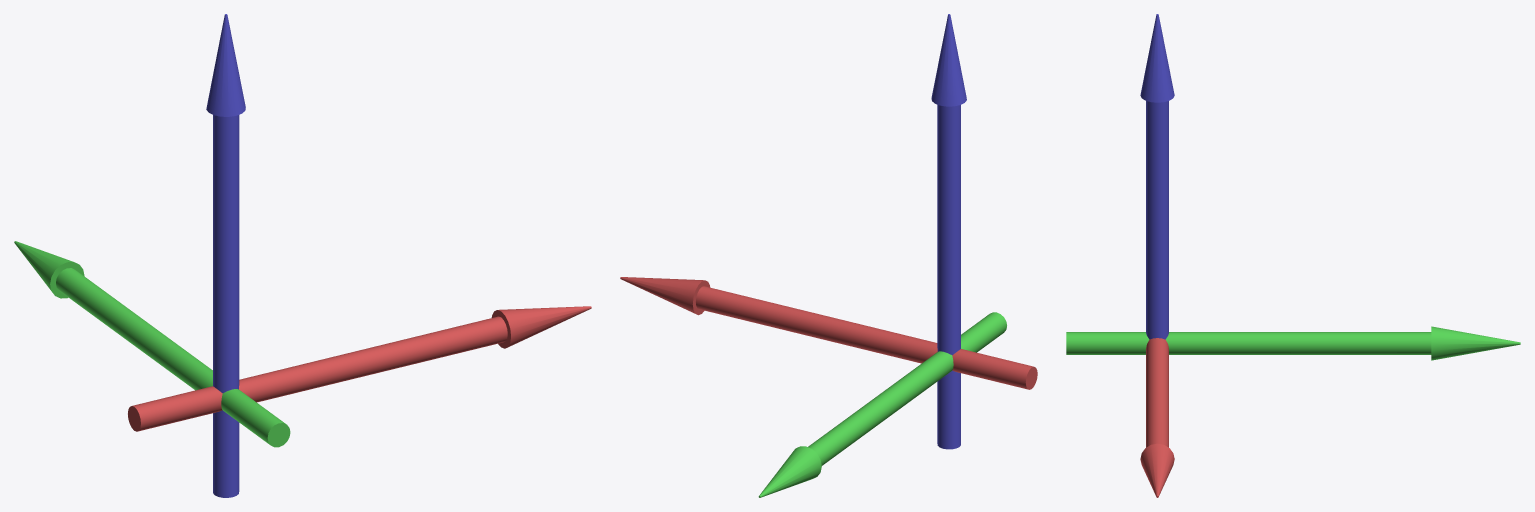
File: utility_pivot_med.game.fbx
The picture shows the model from 3 angles, left to right: view 1: azimuth 30°, elevation 25°; view 2: azimuth 150°, elevation 25°; view 3: azimuth 270°, elevation 25°; orthographic projection. The views are drawn at different scales.
Parts seen in each view (by area): view 1: polySurface5, polySurface3, polySurface4; view 2: polySurface5, polySurface3, polySurface4; view 3: polySurface4, polySurface5, polySurface3.
Boxes of the visible parts, left/top/right/bottom form: polySurface5: left=206, top=14, right=245, bottom=497; polySurface3: left=128, top=306, right=591, bottom=431; polySurface4: left=14, top=241, right=290, bottom=447; polySurface5: left=931, top=14, right=966, bottom=449; polySurface3: left=620, top=277, right=1037, bottom=389; polySurface4: left=758, top=312, right=1006, bottom=497; polySurface4: left=1066, top=326, right=1520, bottom=360; polySurface5: left=1140, top=14, right=1174, bottom=339; polySurface3: left=1140, top=338, right=1174, bottom=497.
Size of the model in its own units: 0.0125 by 0.0125 by 0.0125.
